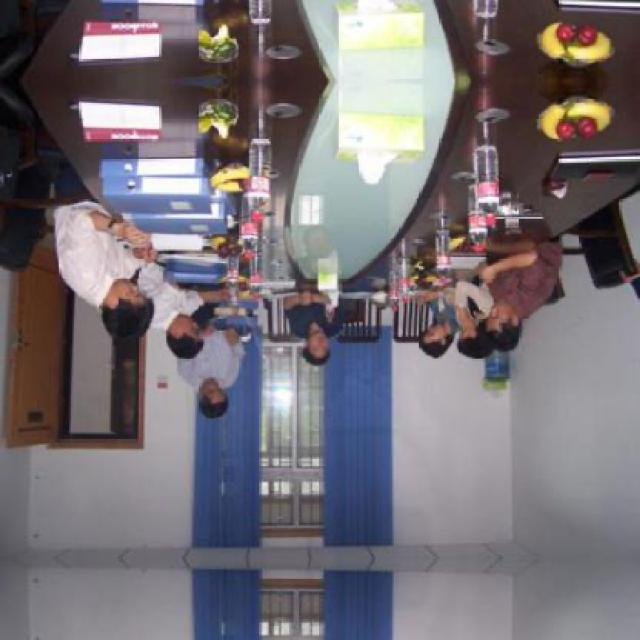sin casco: (94, 275, 158, 341), (158, 308, 230, 362), (281, 308, 345, 366), (481, 303, 534, 363), (183, 382, 240, 432), (417, 322, 474, 370), (450, 328, 497, 364)
